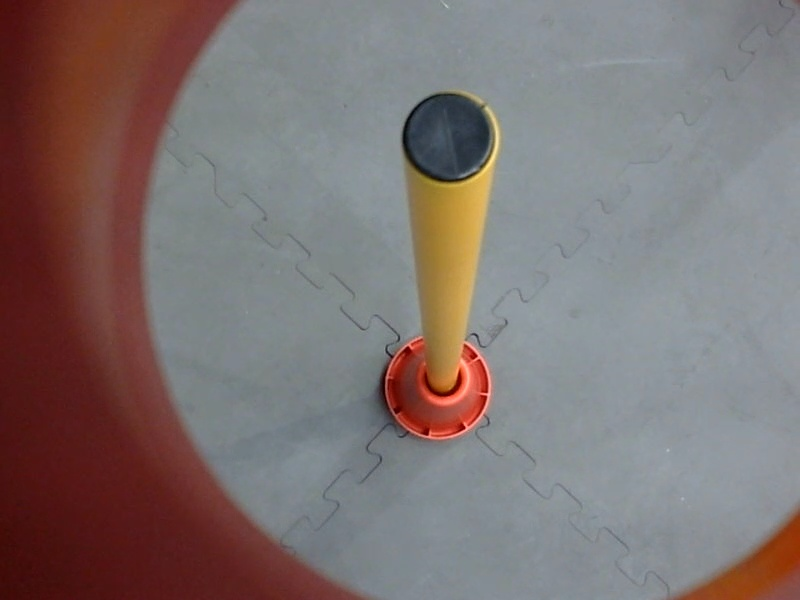tip: (391, 81, 507, 194)
